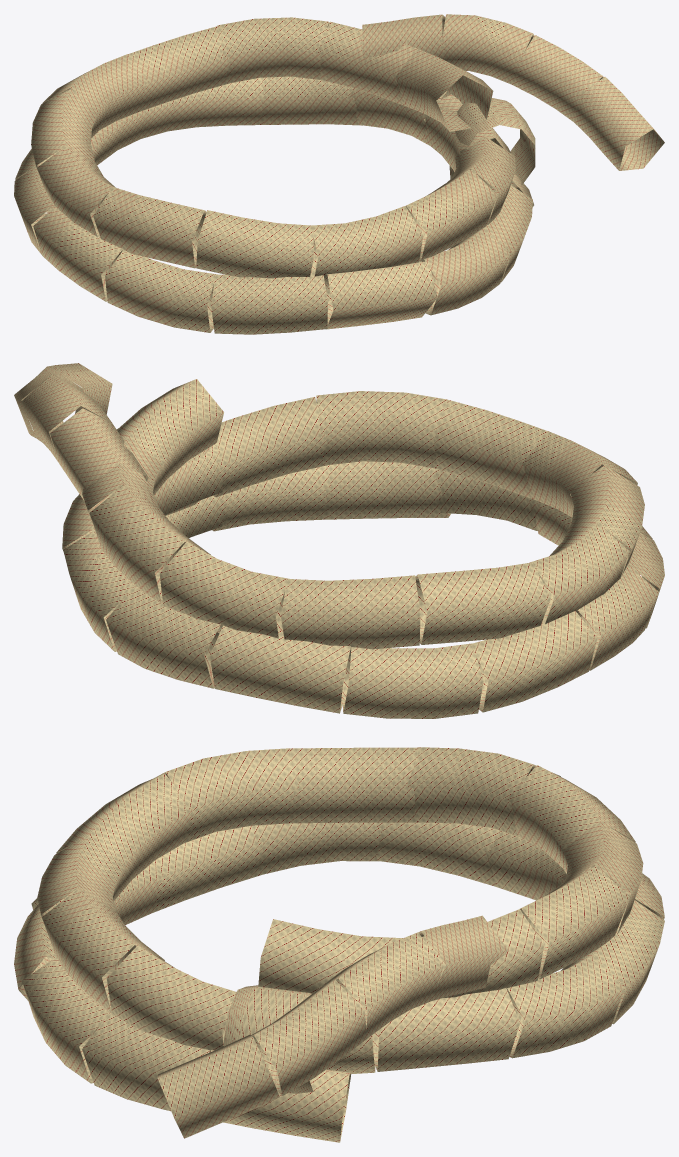
File: rope.obj
3 views of the same model, one above another, from view 1: azimuth 30°, elevation 25°; view 2: azimuth 150°, elevation 25°; view 3: azimuth 270°, elevation 25° (orthographic). The views are drawn at different scales.
Parts seen in each view (by area): view 1: rope_0_surface; view 2: rope_0_surface; view 3: rope_0_surface.
Boxes of the visible parts, x1,y1,x2,y2 form: rope_0_surface: [14, 14, 664, 334]; rope_0_surface: [14, 363, 664, 718]; rope_0_surface: [14, 747, 664, 1142].
Bounding box in the file's own units: 0.3639 × 0.1041 × 0.2952.
1 material, 1 textured.
